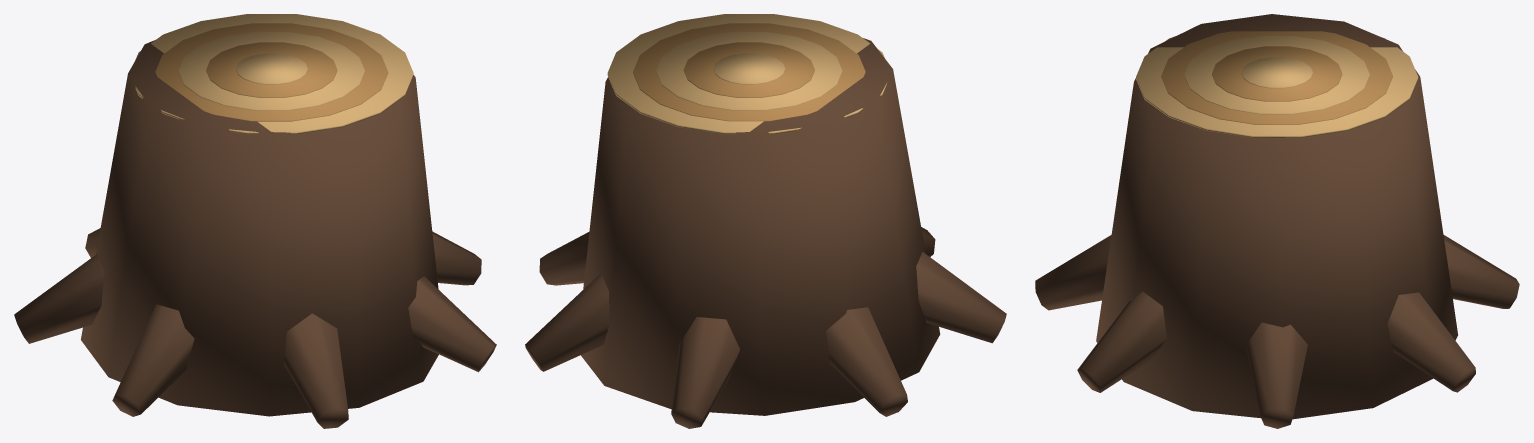
The model's file is Stump.glb.
3 renders of one model, left to right at view 1: azimuth 30°, elevation 25°; view 2: azimuth 150°, elevation 25°; view 3: azimuth 270°, elevation 25°, orthographic.
Visible parts, largest first — view 1: Stump; view 2: Stump; view 3: Stump.
Part boxes in pixels (x1,y1,x2,y2): Stump: (14, 14, 496, 428); Stump: (525, 14, 1006, 428); Stump: (1035, 14, 1519, 428).
Bounding box in the file's own units: 1.12 × 0.7236 × 1.15.
